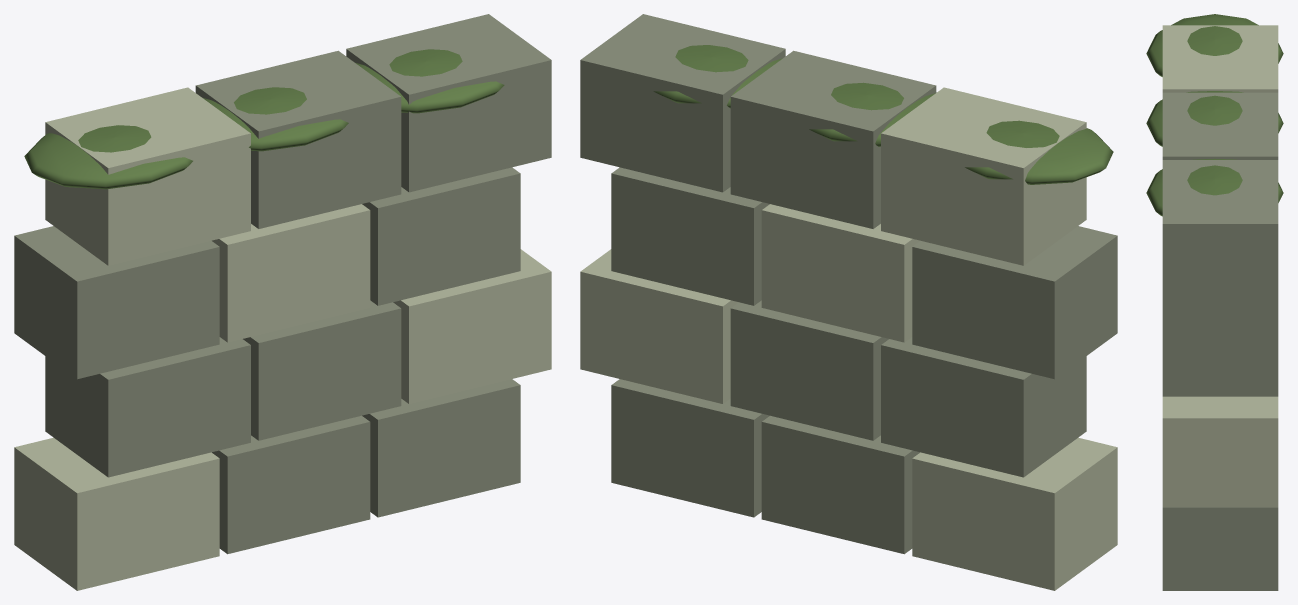
The model's file is ruin_wall.glb.
3 views of the same model, side by side, from view 1: azimuth 30°, elevation 25°; view 2: azimuth 150°, elevation 25°; view 3: azimuth 270°, elevation 25° (orthographic). The views are drawn at different scales.
Parts seen in each view (by area): view 1: stone (×12), moss (×3); view 2: stone (×12), moss (×3); view 3: stone (×6), moss (×3).
Part boxes in pixels (left/top/right/bottom): stone (×12): left=14, top=14, right=551, bottom=590; moss (×3): left=24, top=49, right=504, bottom=189; stone (×12): left=580, top=14, right=1117, bottom=590; moss (×3): left=653, top=45, right=1113, bottom=184; stone (×6): left=1162, top=25, right=1278, bottom=590; moss (×3): left=1146, top=14, right=1283, bottom=216.
Size of the model in its own units: 1.9 by 1.53 by 0.5.
